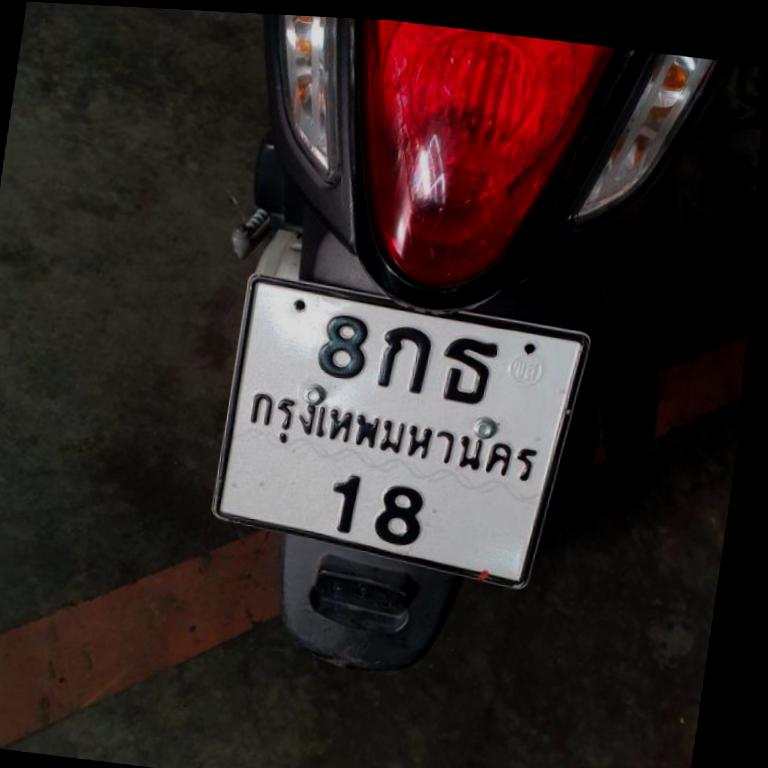license plate: (213, 274, 587, 585)
